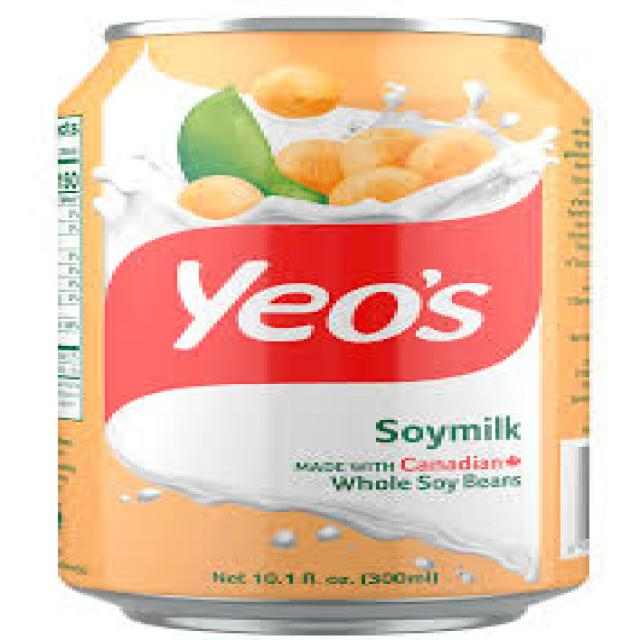Cans: (32, 5, 618, 631)
